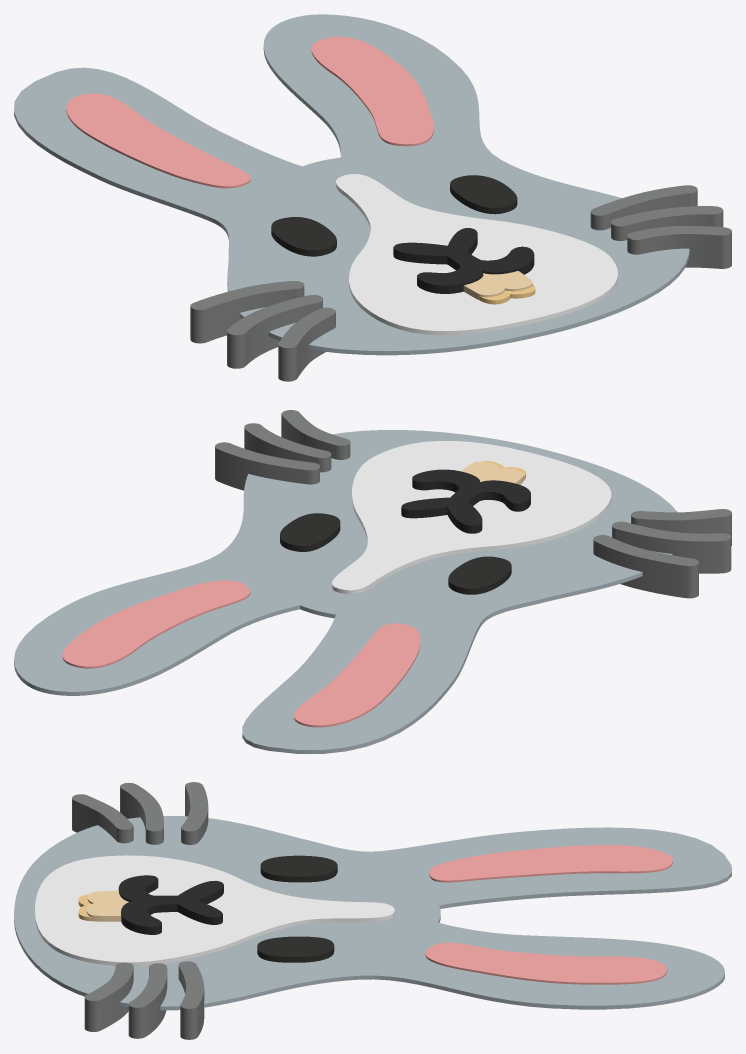
File: emoji_u1f430.glb
The picture shows the model from 3 angles, top to bottom: view 1: azimuth 30°, elevation 25°; view 2: azimuth 150°, elevation 25°; view 3: azimuth 270°, elevation 25°; orthographic projection. The views are drawn at different scales.
Parts seen in each view (by area): view 1: emoji_u1f430; view 2: emoji_u1f430; view 3: emoji_u1f430.
Part boxes in pixels (x1,y1,x2,y2): emoji_u1f430: (14,14,731,381); emoji_u1f430: (14,410,731,753); emoji_u1f430: (14,782,731,1039).
Size of the model in its own units: 0.0251 by 0.0016 by 0.0336.
